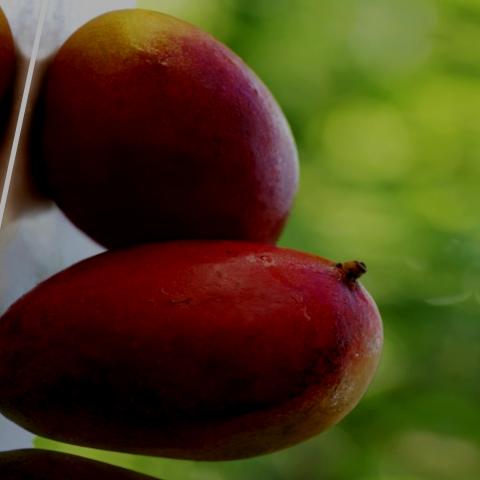mango: (0, 160, 410, 480), (0, 0, 335, 320)
